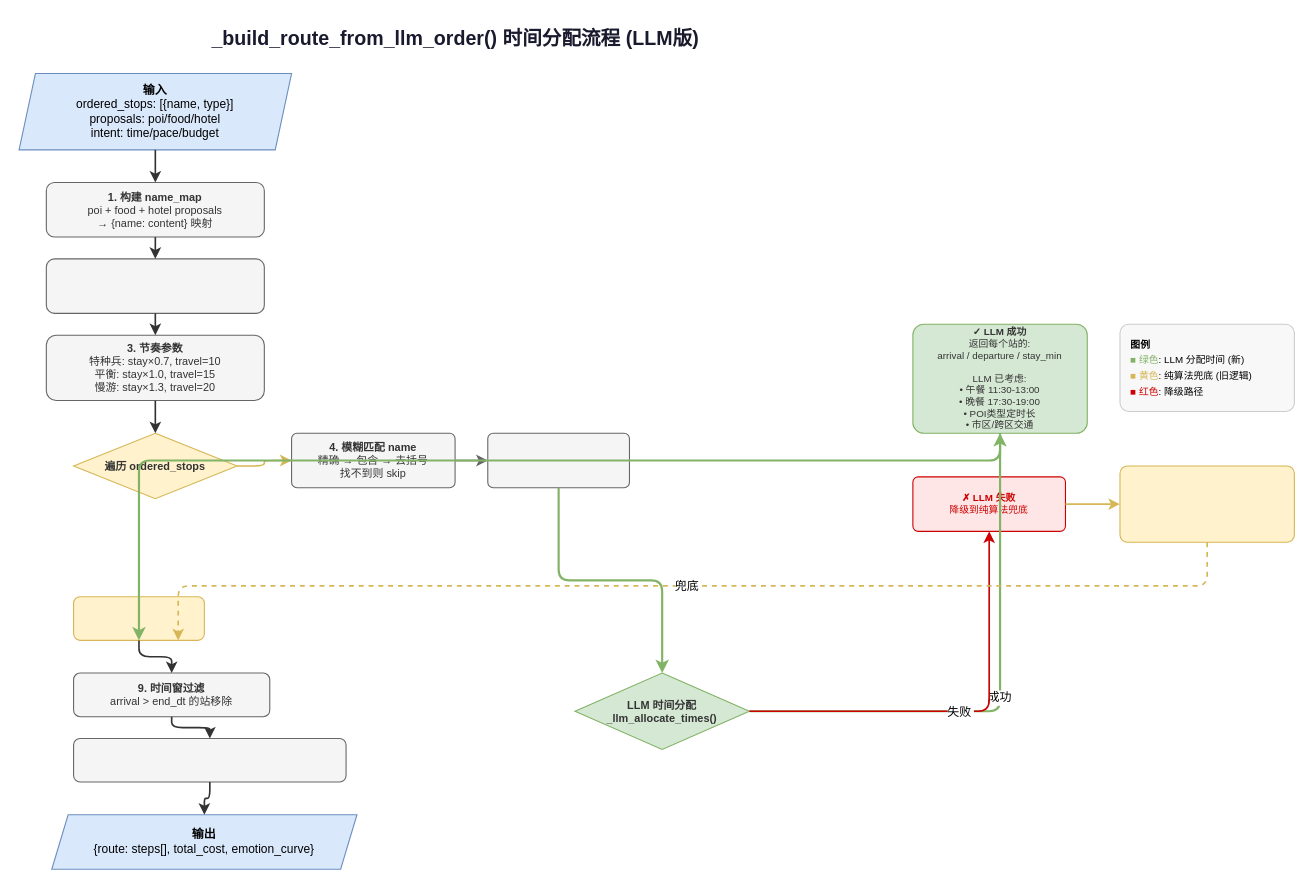
Some shapes in this 1313 by 888 pixel diagram are drawn without their labels. The centre of each missing label's shape, as x and y in pixels:
"10. _dedup_route + _enforce_time_windows" goes at pixel 209 759.
"2. 读取时间参数 start_time (默认09:00) end_time (默认21:00)" goes at pixel 154 285.
"5. 去重检查 canonical_name 已用则 skip" goes at pixel 558 460.
"⚠ 纯算法兜底 _algo_allocate_times() 原有逻辑: 90min×multiplier dist×8min clamp(5,60) 机械累加" goes at pixel 1206 503.
"循环结束 生成 steps[]" goes at pixel 138 618.
